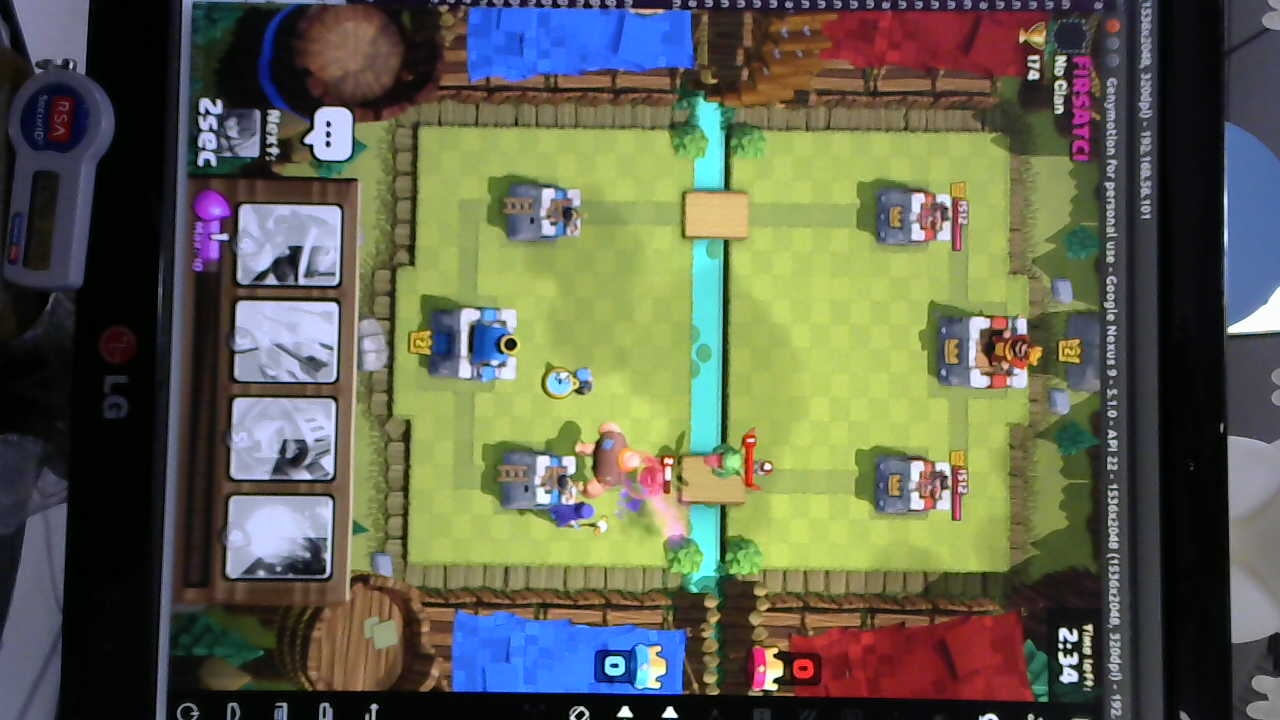arena: (499, 449, 586, 513), (501, 178, 583, 245)
bomb: (567, 360, 604, 400), (740, 456, 778, 480)
dragon: (705, 425, 751, 490)
earena: (875, 454, 956, 520), (872, 185, 954, 250)
eking: (932, 308, 1041, 393)
giant: (581, 416, 648, 500)
king: (441, 302, 523, 384)
minipekka: (634, 447, 676, 500)
witch: (539, 495, 610, 526)
